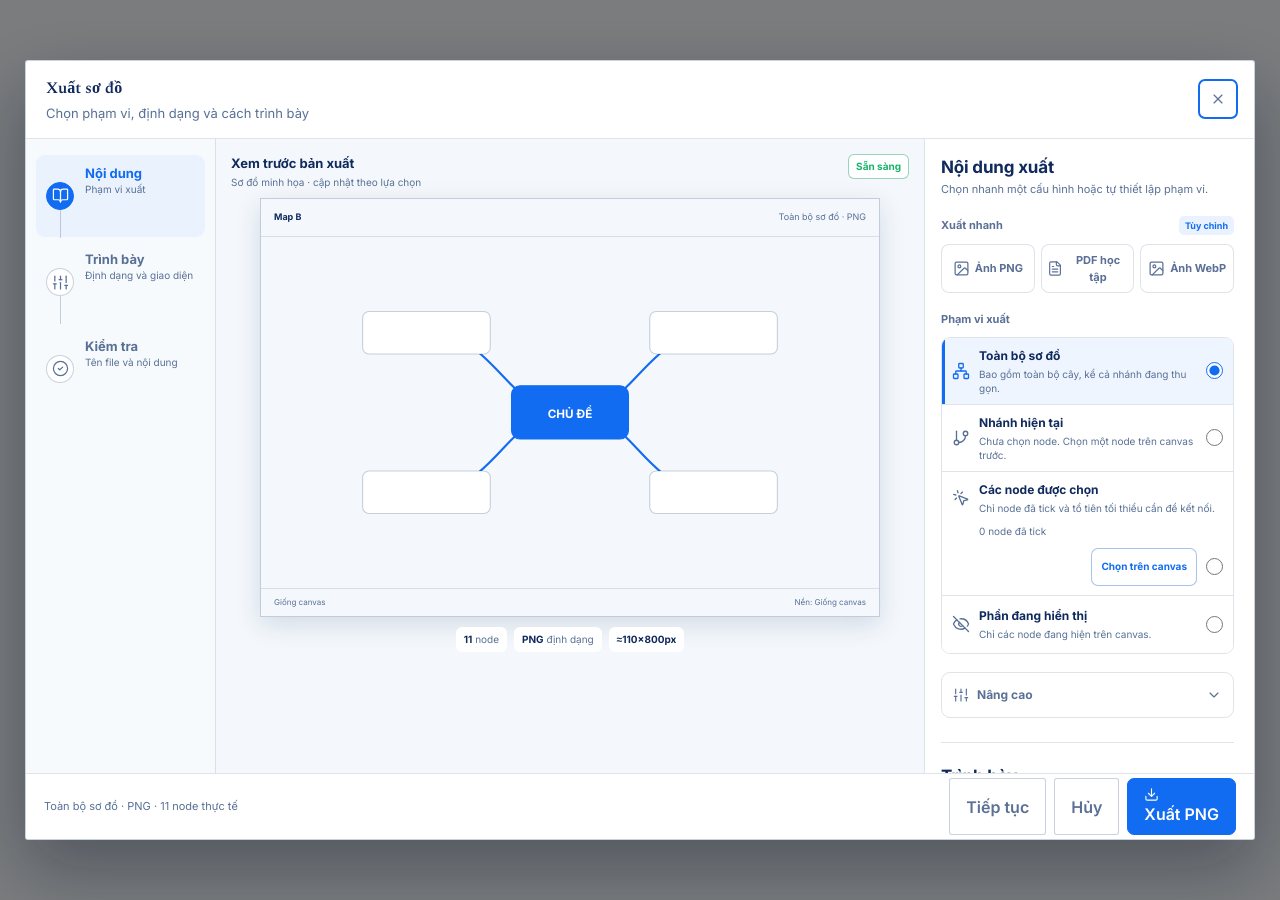
Test: Export Studio scope freshness contract › revalidates same-id content mutations before exporting with a stale geometry preview
Click the button "Xuất PNG" at (1182, 806), box [1127,778,1236,835]
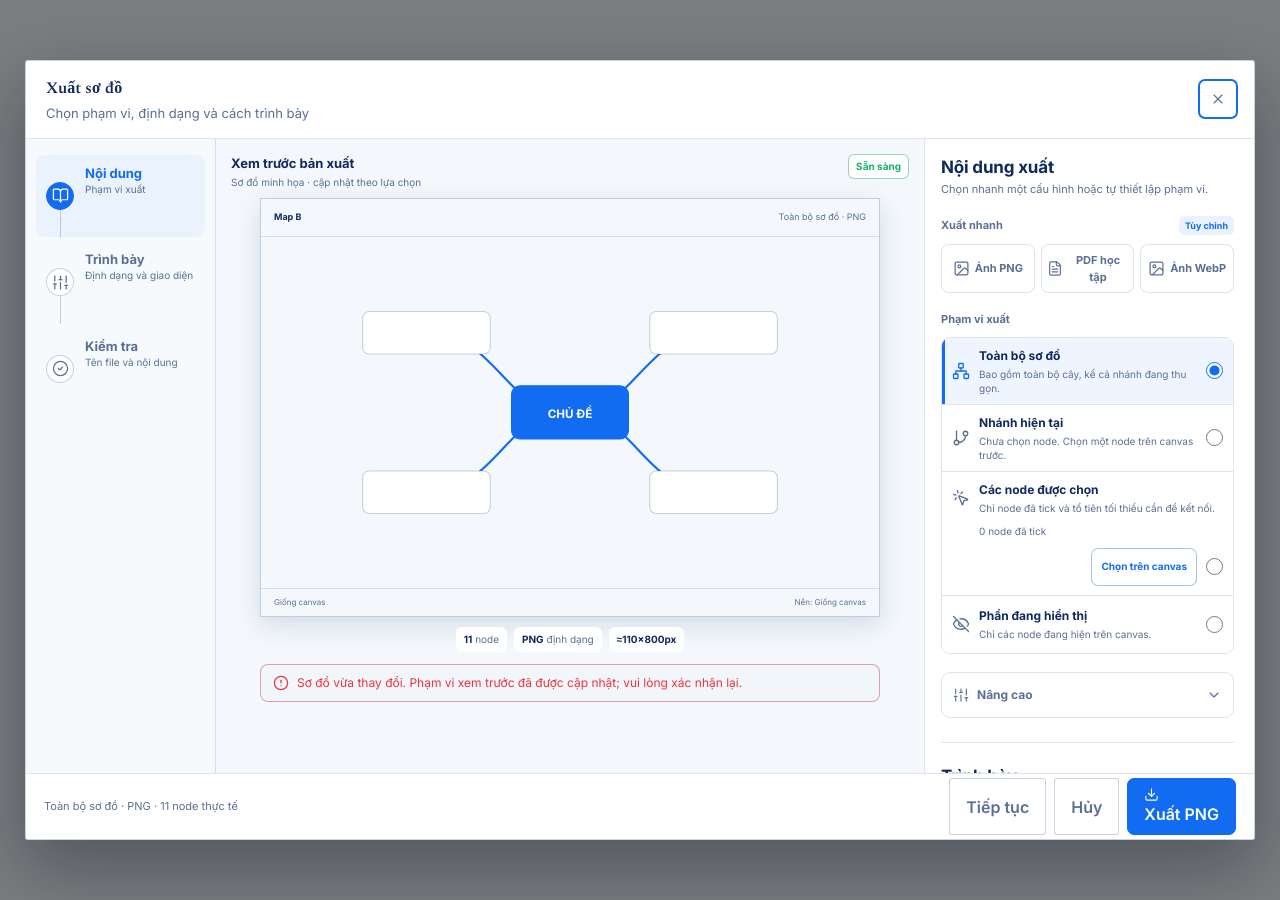
Check: the message "Sơ đồ vừa thay đổi. Phạm vi xem trước đã được cập nhật; vui lòng xác nhận lại." is shown, box [260,664,880,702]
